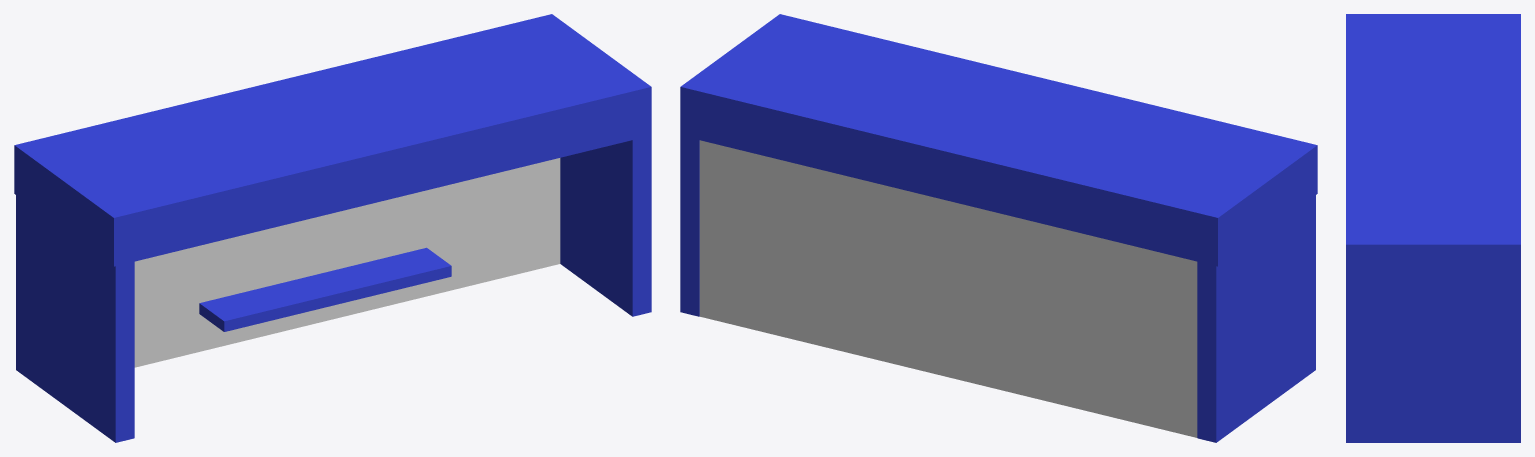
File: BlueModel1.gltf
The picture shows the model from 3 angles, left to right: view 1: azimuth 30°, elevation 25°; view 2: azimuth 150°, elevation 25°; view 3: azimuth 270°, elevation 25°; orthographic projection. The views are drawn at different scales.
Parts seen in each view (by area): view 1: Cube.002; view 2: Cube.002; view 3: Cube.002.
Boxes of the visible parts, x1,y1,x2,y2 form: Cube.002: [14, 14, 651, 442]; Cube.002: [680, 14, 1317, 442]; Cube.002: [1346, 14, 1520, 442].
Bounding box in the file's own units: 6.24 × 2.5 × 2.
